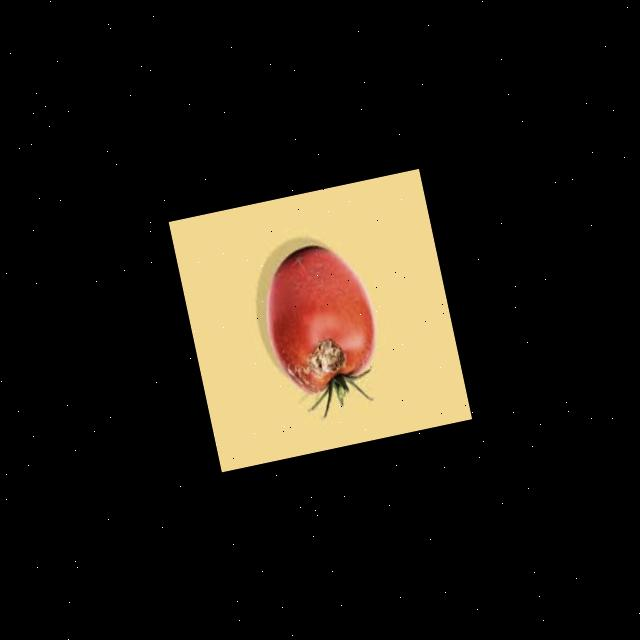tomato: (246, 224, 399, 421)
